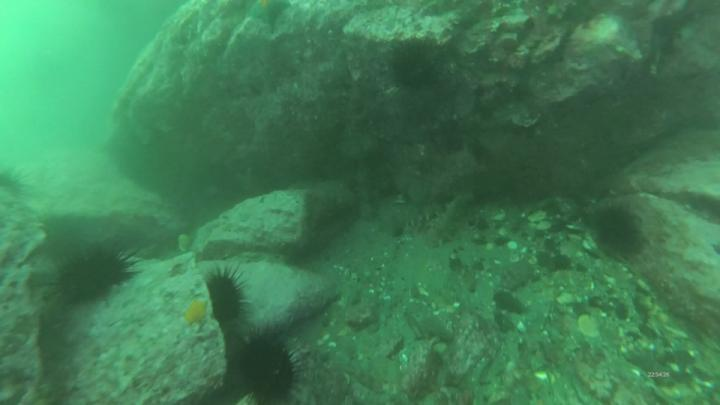echinus: (239, 335, 297, 405), (56, 250, 130, 296), (591, 208, 644, 252), (391, 49, 437, 92), (212, 275, 247, 324)
holothurian: (430, 190, 470, 246), (385, 208, 442, 232)
